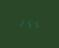five: (26, 19, 32, 28), (33, 20, 39, 28)
two: (18, 19, 24, 27)
